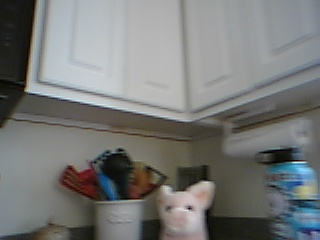piggy: (155, 180, 216, 240)
